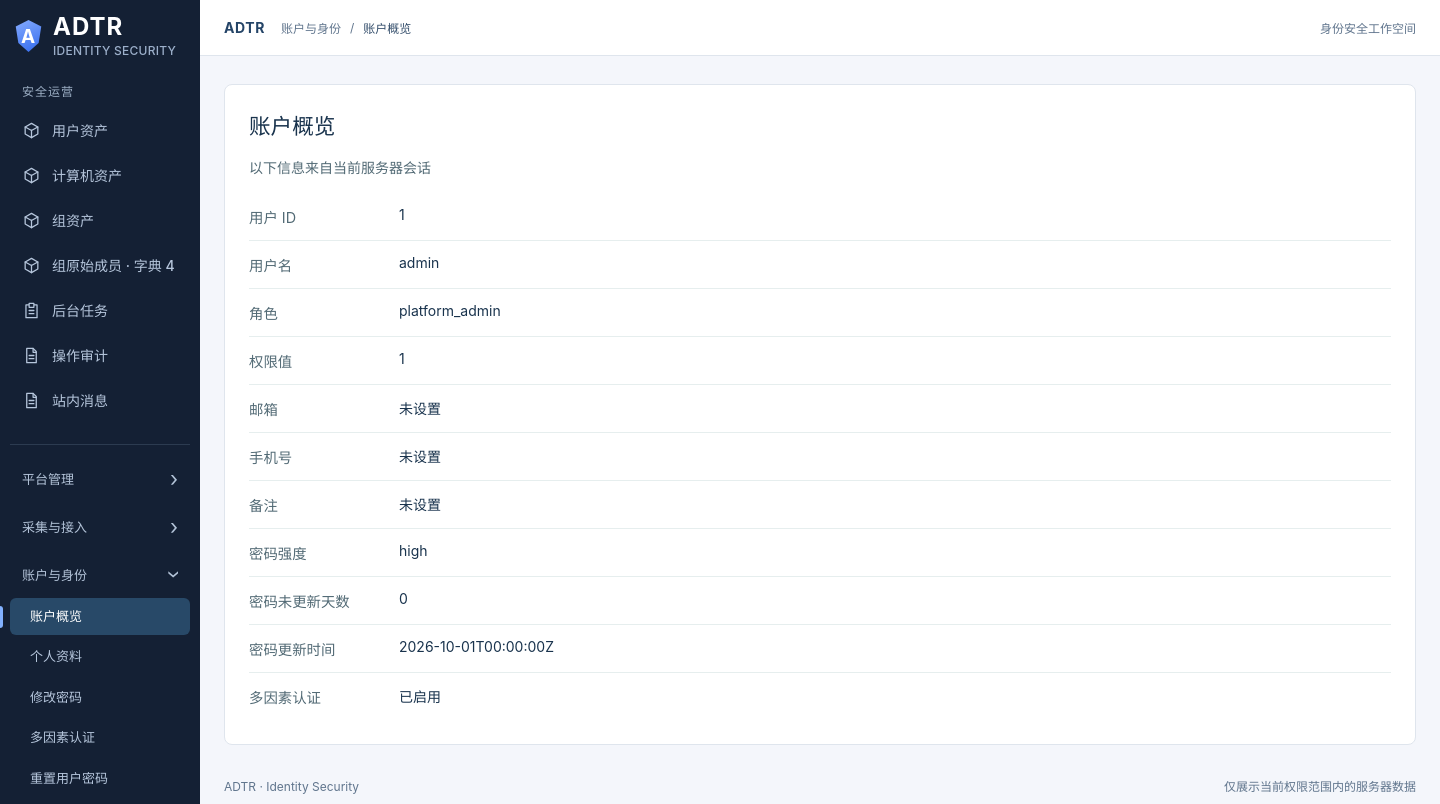
server-driven navigation and sessions › fails closed when positional check response is malformed
Expected: the heading "账户概览" is shown, [249,113,335,139]
Step 1. Click the heading "平台管理 ›" → (48, 479), box [22,466,178,491]
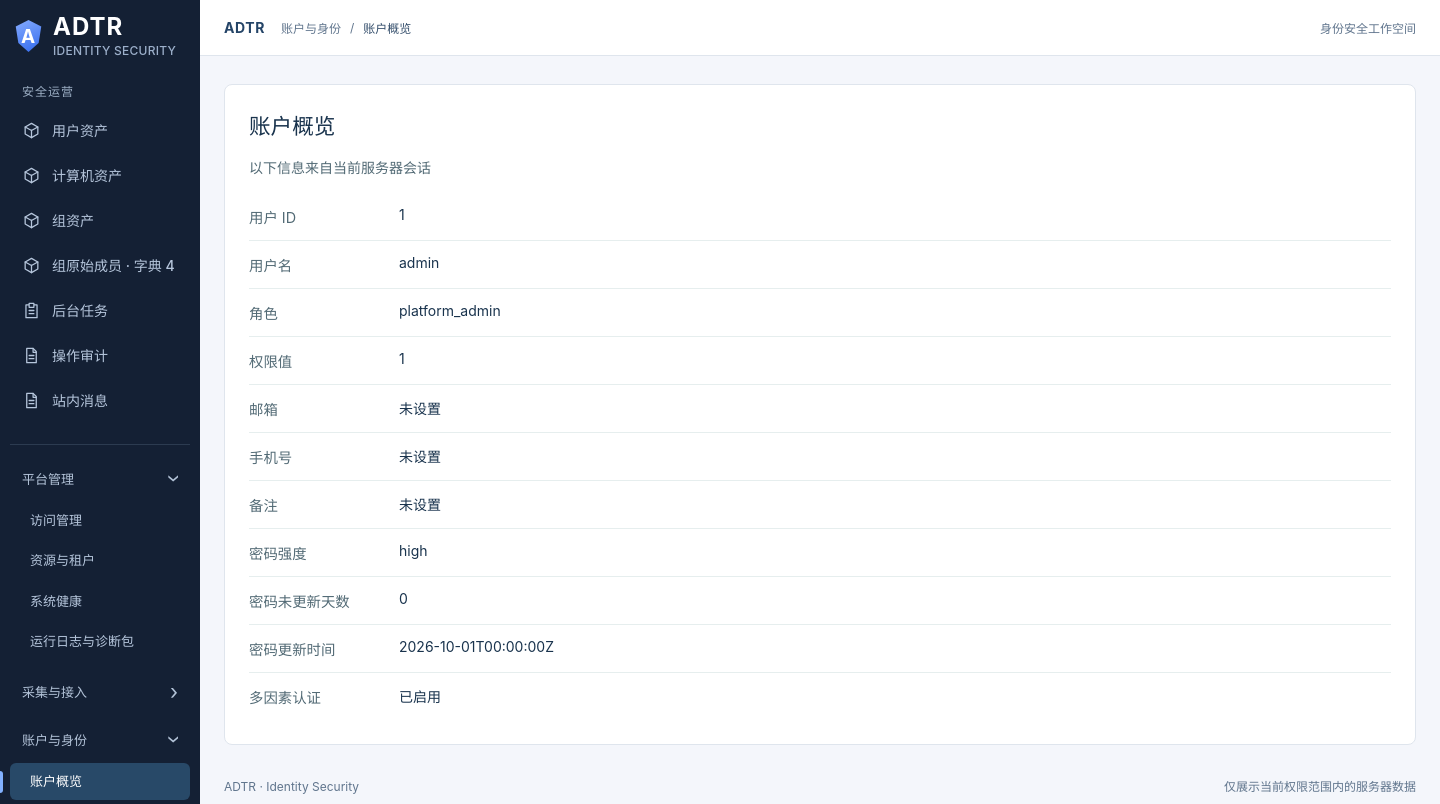
Expected: the button "访问管理" is shown
Step 2. Click the button "访问管理" → (100, 521), box [10,502,190,539]
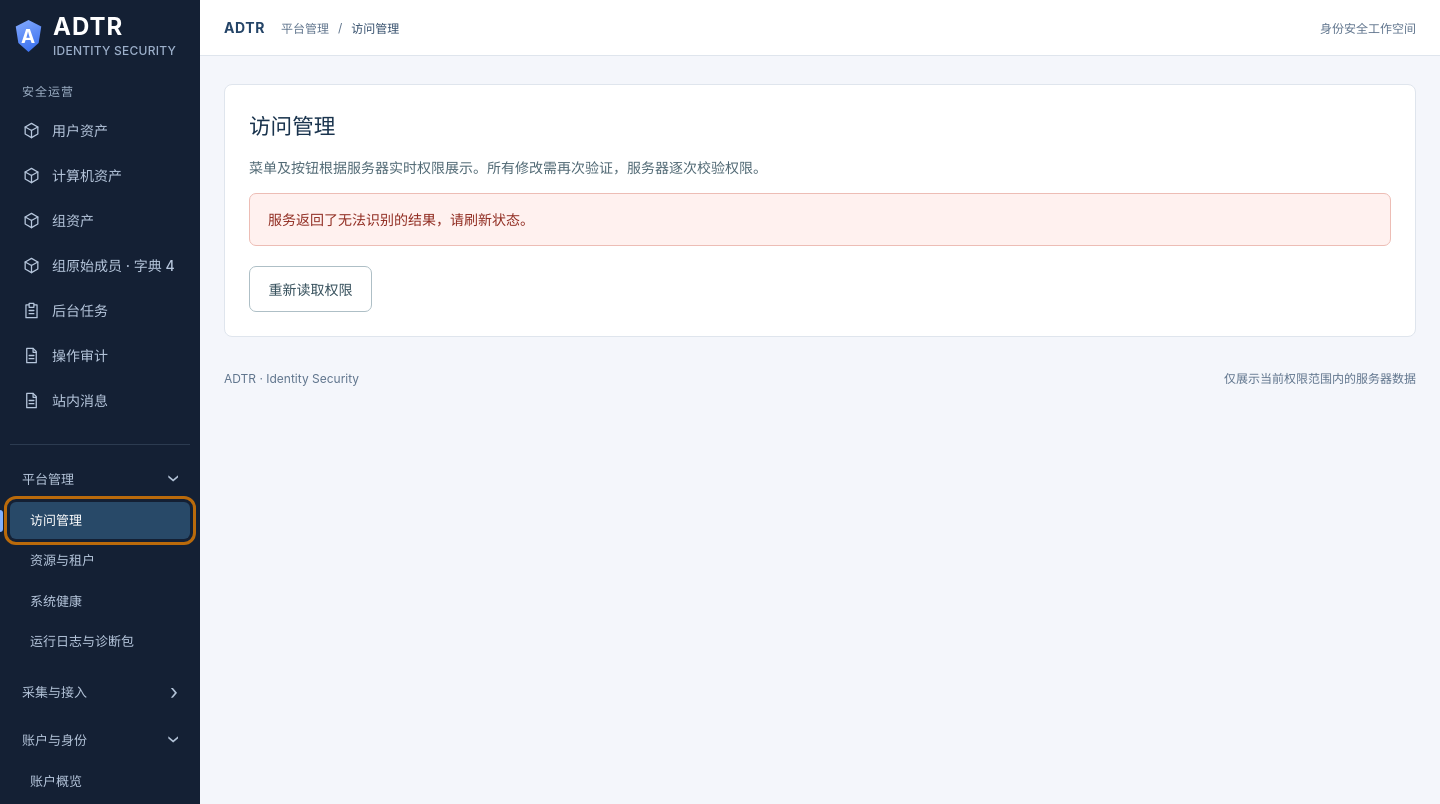
Expected: the message shows "无法识别", [268,211,534,228]
